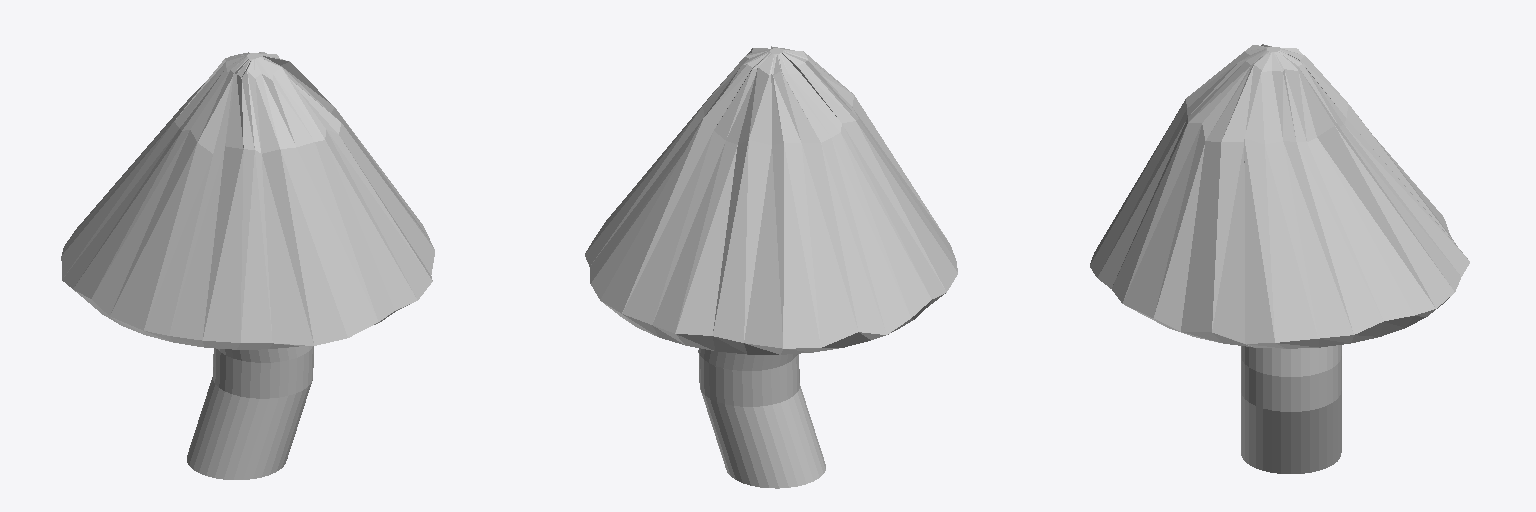
File: Mushroom2.obj
The picture shows the model from 3 angles: view 1: azimuth 30°, elevation 25°; view 2: azimuth 150°, elevation 25°; view 3: azimuth 270°, elevation 25°; orthographic projection.
Visible parts, largest first — view 1: Circle; view 2: Circle; view 3: Circle.
Part boxes in pixels (left/top/right/bottom): Circle: left=61, top=52, right=434, bottom=479; Circle: left=585, top=46, right=957, bottom=488; Circle: left=1090, top=44, right=1469, bottom=473.
Bounding box in the file's own units: 7.54 × 8.95 × 7.58.